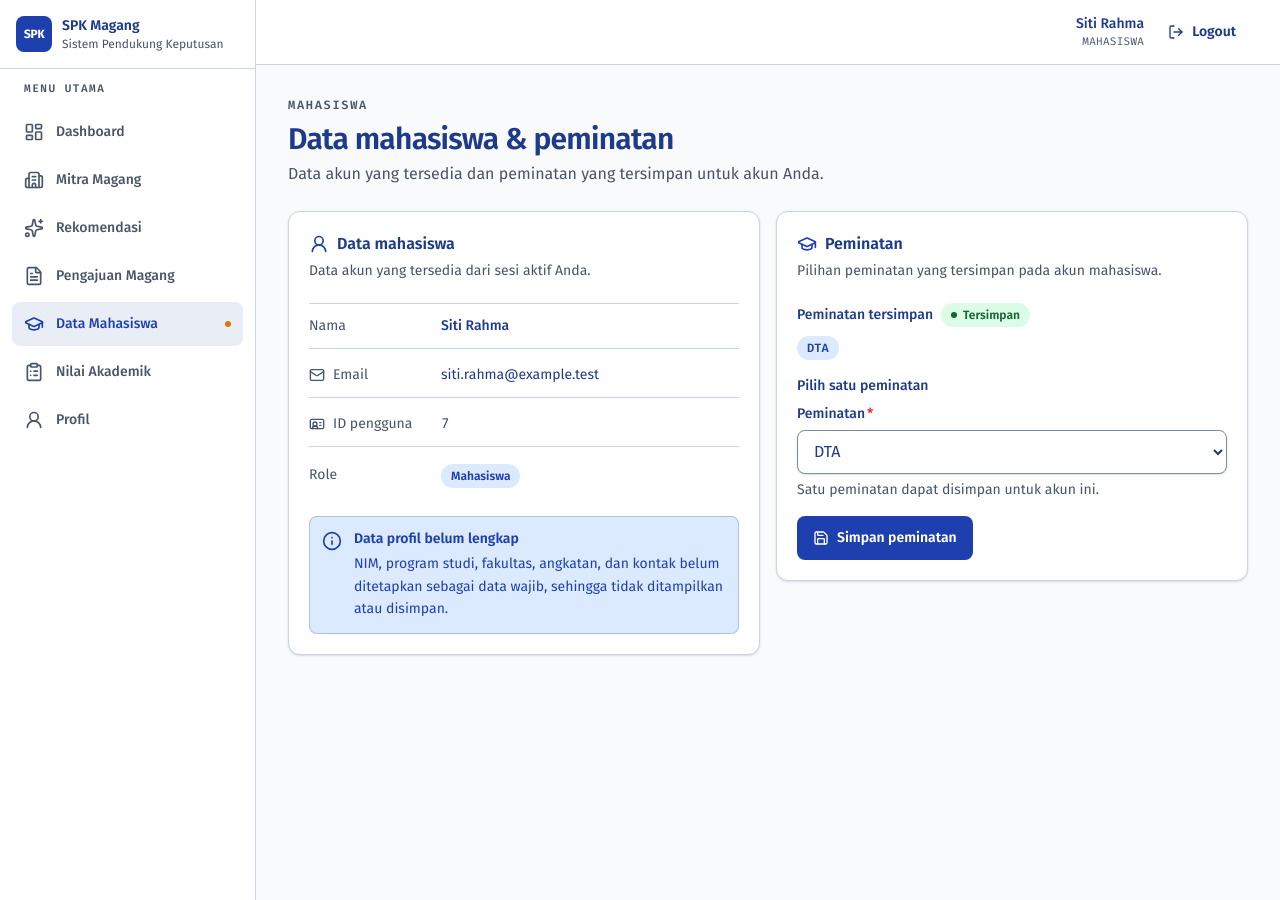
Test: StudentDataPage › menampilkan error jaringan saat penyimpanan gagal
The image size is (1280, 900).
Check: the dropdown labelled "Peminatan*" is shown, box 797,430 -> 1227,474
Step 1. Click the button "Simpan peminatan" → (885, 538), box 797,516 -> 973,560
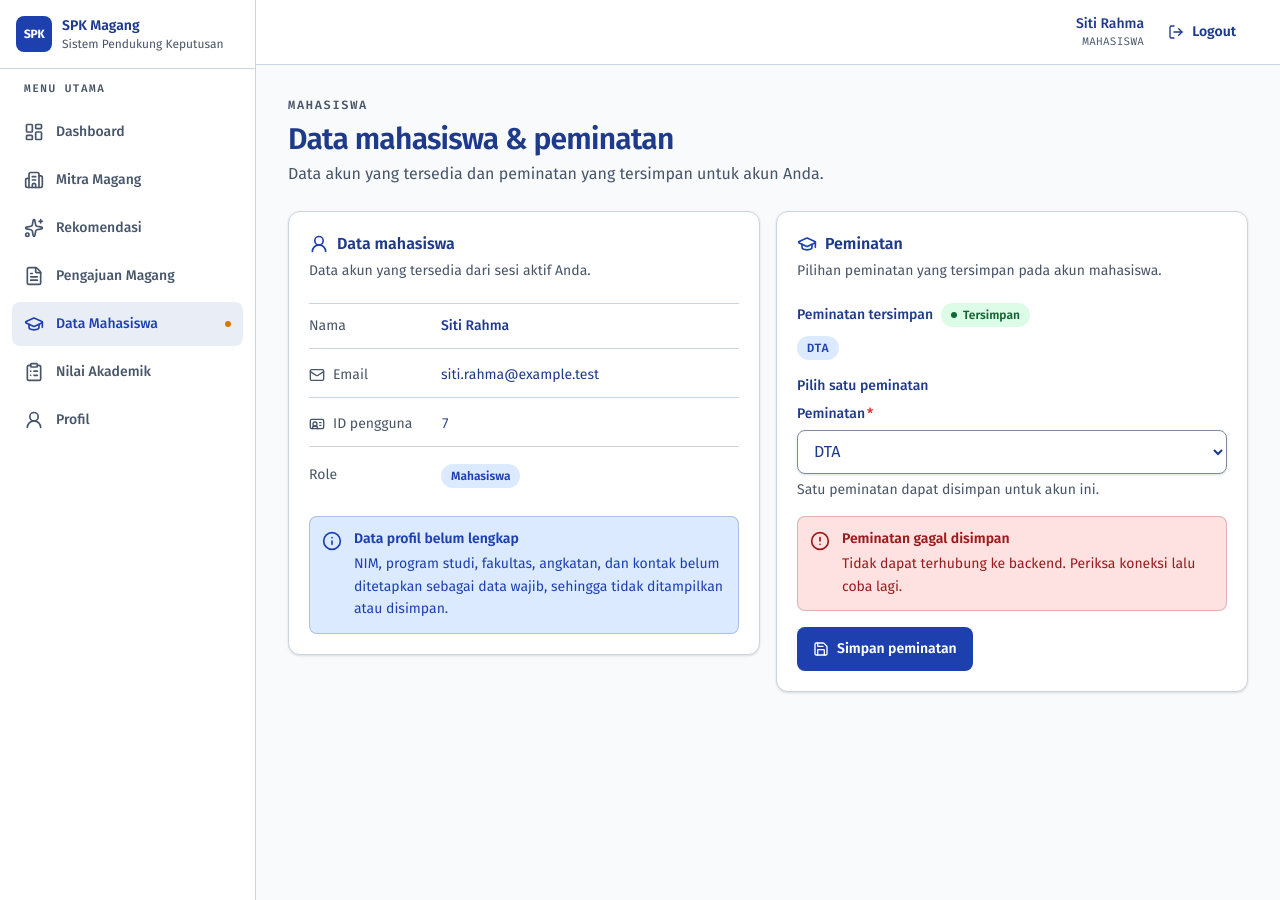
Check: the text "Tidak dapat terhubung ke backend. Periksa koneksi lalu coba lagi." is shown, box 842,553 -> 1214,598
Check: the text "Peminatan gagal disimpan" is shown, box 842,530 -> 1010,547
